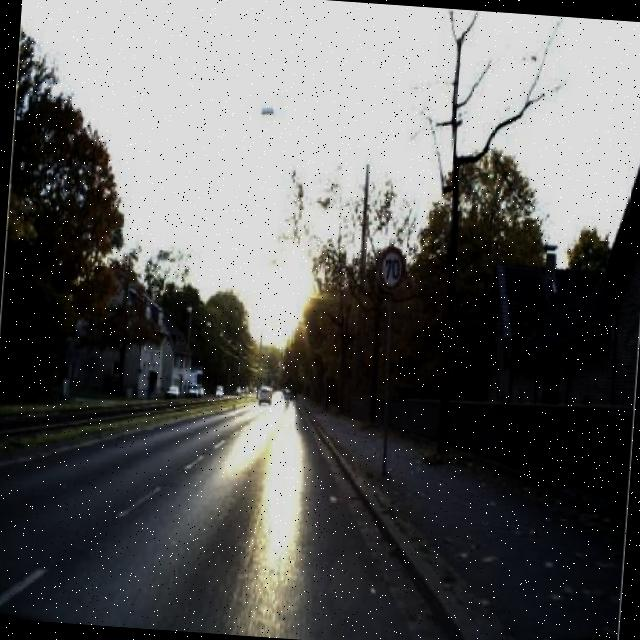Ograniczenie predkosci do 70: (374, 243, 408, 294)
